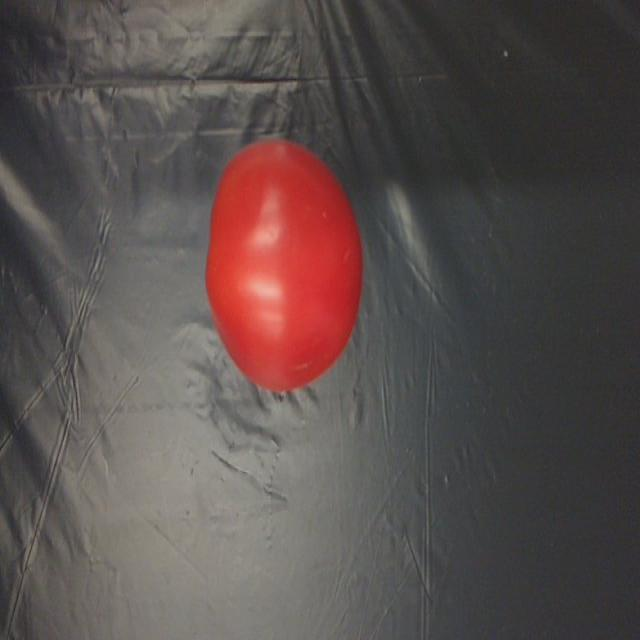kirmizi: (200, 116, 359, 427)
